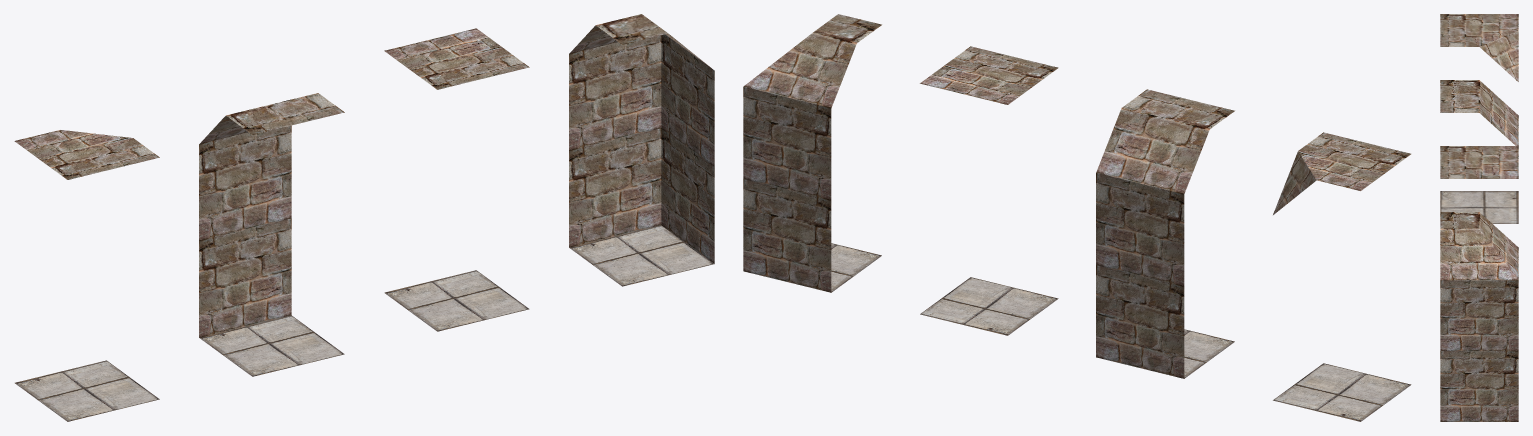
Rendered from chapeltile.glb.
The picture shows the model from 3 angles, left to right: view 1: azimuth 30°, elevation 25°; view 2: azimuth 150°, elevation 25°; view 3: azimuth 270°, elevation 25°; orthographic projection. The views are drawn at different scales.
Visible parts, largest first — view 1: corner-in-col, wall-col, floor-col, corner-out-col; view 2: wall-col, corner-in-col, corner-out-col, floor-col; view 3: corner-in-col, corner-out-col, wall-col, floor-col.
Part boxes in pixels (left/top/right/bottom): corner-in-col: left=569, top=14, right=714, bottom=286; wall-col: left=199, top=93, right=344, bottom=376; floor-col: left=384, top=28, right=529, bottom=331; corner-out-col: left=14, top=130, right=159, bottom=421; wall-col: left=1096, top=89, right=1234, bottom=378; corner-in-col: left=743, top=14, right=881, bottom=292; corner-out-col: left=1273, top=132, right=1411, bottom=421; floor-col: left=920, top=46, right=1058, bottom=335; corner-in-col: left=1440, top=212, right=1518, bottom=421; corner-out-col: left=1440, top=14, right=1518, bottom=223; wall-col: left=1440, top=80, right=1518, bottom=145; floor-col: left=1440, top=146, right=1518, bottom=178.
Bounding box in the file's own units: 7 × 2.5 × 1.
2 materials, 2 textured.
